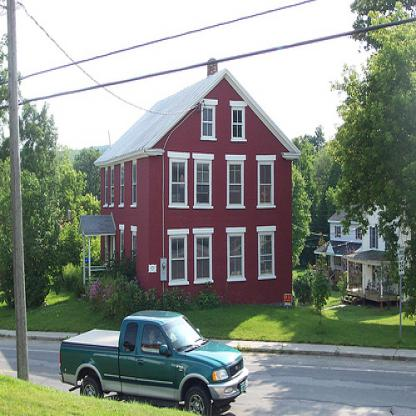car: (56, 306, 248, 415)
